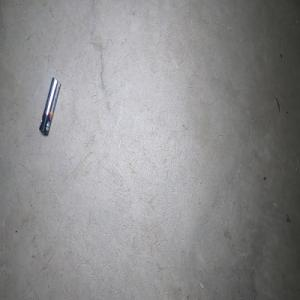Battery: (38, 76, 60, 135)
